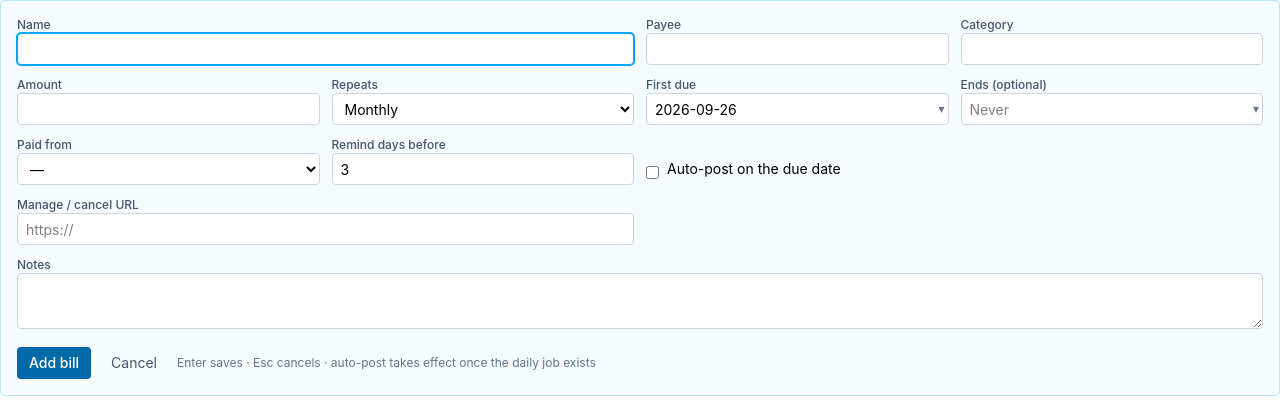
Test: SubscriptionForm › shows the interval fields only for a custom schedule
Expected: the field labelled "Every" is not shown
Select "Custom" in the dropdown labelled "Repeats" at (483, 109), box [332, 93, 634, 125]
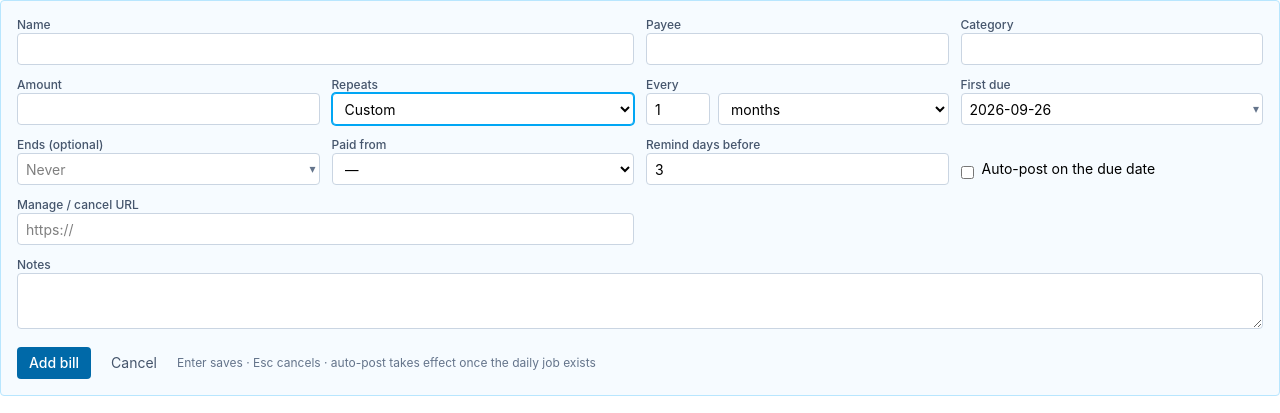
Expected: the field labelled "Every" is shown, [646, 93, 710, 125]
